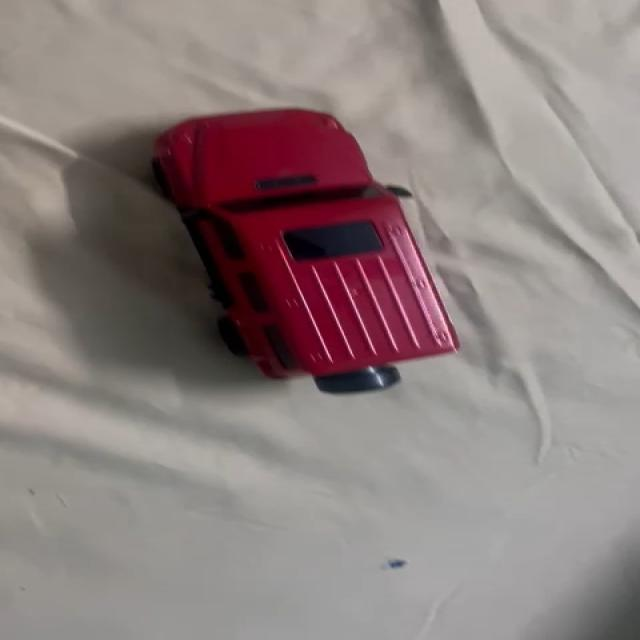light_vehicle: (129, 91, 466, 397)
